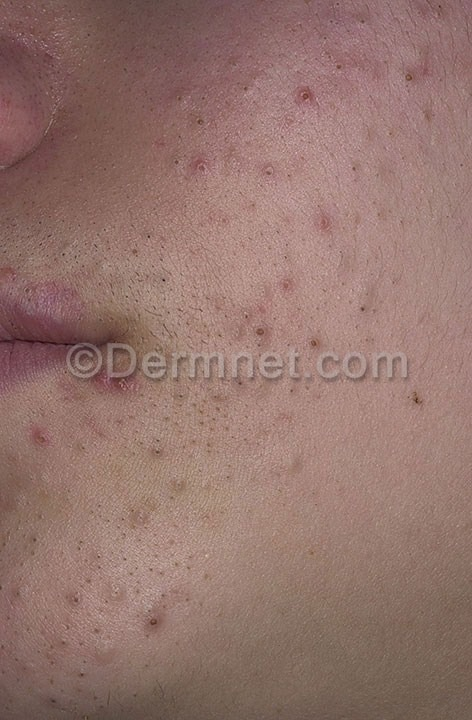Acne: (19, 268, 173, 408)
